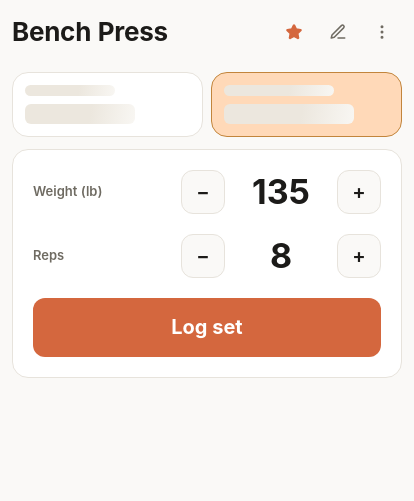
Test: ExerciseDetail in-flight visual feedback › deleting a paused-offline set (before a session exists) cancels its pending create
Click the button "Log set" at coordinates (207, 328), box x1=33 y1=298 x2=381 y2=357
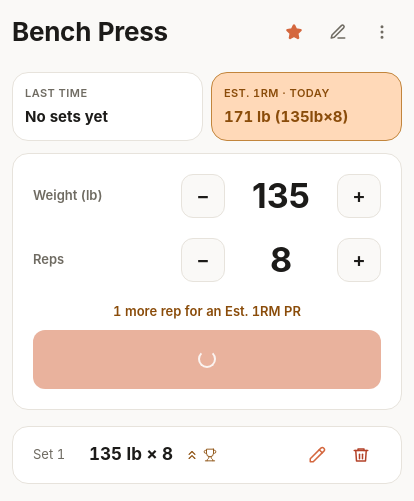
Now the button named "Delete" is shown
Click the button named "Delete" at coordinates (361, 454), box x1=341 y1=434 x2=381 y2=474
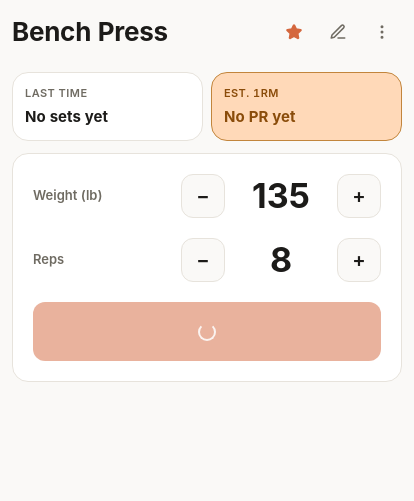
Now the text "135 lb × 8" is gone
